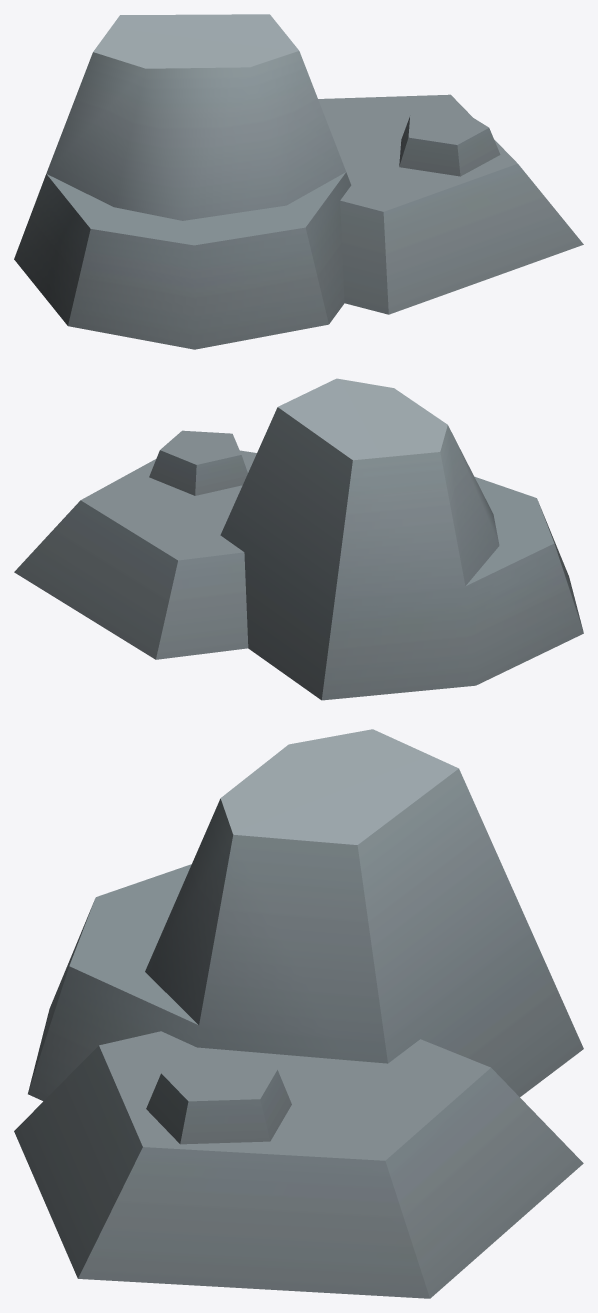
The model's file is kaykit-medieval-hexagon-pack-rock-single-e.glb.
3 renders of one model, top to bottom at view 1: azimuth 30°, elevation 25°; view 2: azimuth 150°, elevation 25°; view 3: azimuth 270°, elevation 25°, orthographic. The views are drawn at different scales.
Visible parts, largest first — view 1: rock_single_E; view 2: rock_single_E; view 3: rock_single_E.
Boxes of the visible parts, <box> form: rock_single_E: <box>14,14,583,349</box>; rock_single_E: <box>14,378,583,700</box>; rock_single_E: <box>14,729,583,1298</box>.
Size of the model in its own units: 0.4881 by 0.1948 by 0.3475.
1 material, 1 textured.
